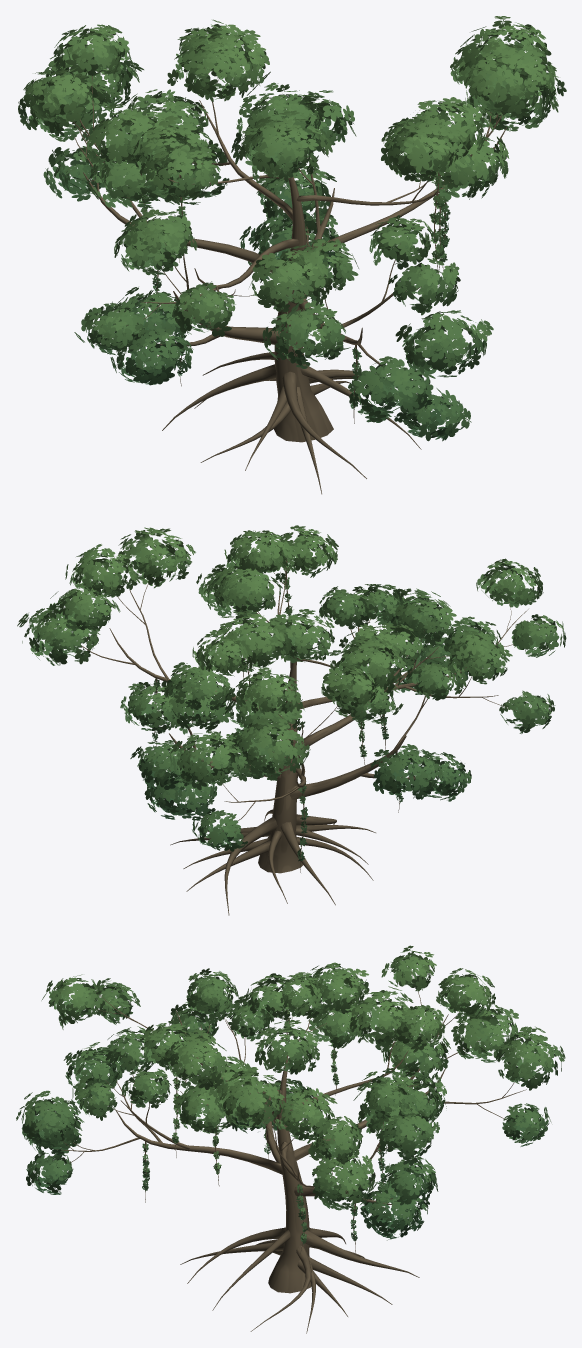
The model's file is tree.gltf.
3 renders of one model, top to bottom at view 1: azimuth 30°, elevation 25°; view 2: azimuth 150°, elevation 25°; view 3: azimuth 270°, elevation 25°, orthographic. The views are drawn at different scales.
Visible parts, largest first — view 1: Tree_LOD0; view 2: Tree_LOD0; view 3: Tree_LOD0.
Boxes of the visible parts, bbox=[...] form: Tree_LOD0: bbox=[18, 16, 566, 494]; Tree_LOD0: bbox=[17, 525, 566, 915]; Tree_LOD0: bbox=[16, 945, 565, 1333].
Size of the model in its own units: 23.56 by 14.05 by 24.66.
Materials: 2 (2 with a texture image).
